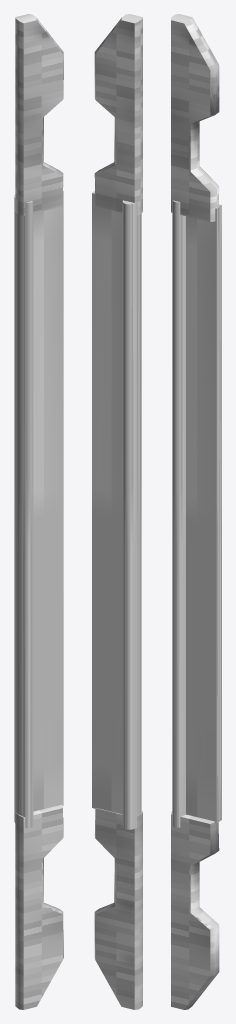
The model's file is Ares Instruments 2.dae.
3 views of the same model, side by side, from view 1: azimuth 30°, elevation 25°; view 2: azimuth 150°, elevation 25°; view 3: azimuth 330°, elevation 25° (orthographic).
Visible parts, largest first — view 1: Polygon_Mesh (×4); view 2: Polygon_Mesh (×4); view 3: Polygon_Mesh (×4).
Part boxes in pixels (bbox=[...]): Polygon_Mesh (×4): bbox=[14, 14, 63, 1009]; Polygon_Mesh (×4): bbox=[92, 14, 142, 1009]; Polygon_Mesh (×4): bbox=[171, 14, 221, 1009].
Bounding box in the file's own units: 36.53 × 771 × 18.13.
1 material, 1 textured.
